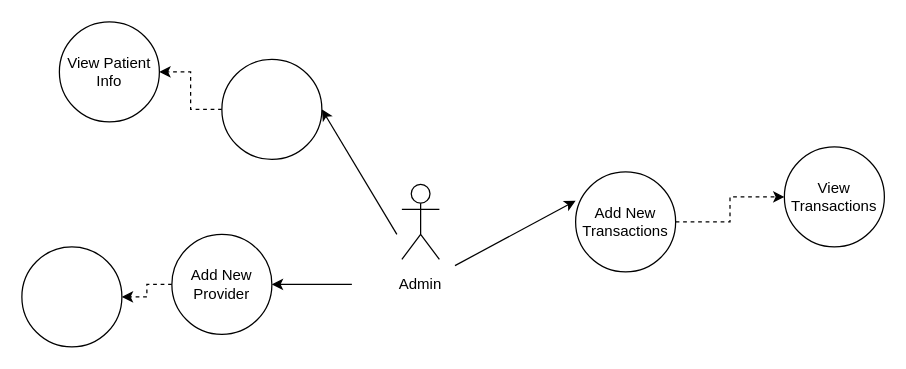
The diagram is 906 pixels wide and 369 high, and some of its shapes have lost their labels. Here are the shapes that lost their labels. From the top down, the centre of each, then its label:
point (271, 108): Register New Patient
point (71, 296): View Provider Info
